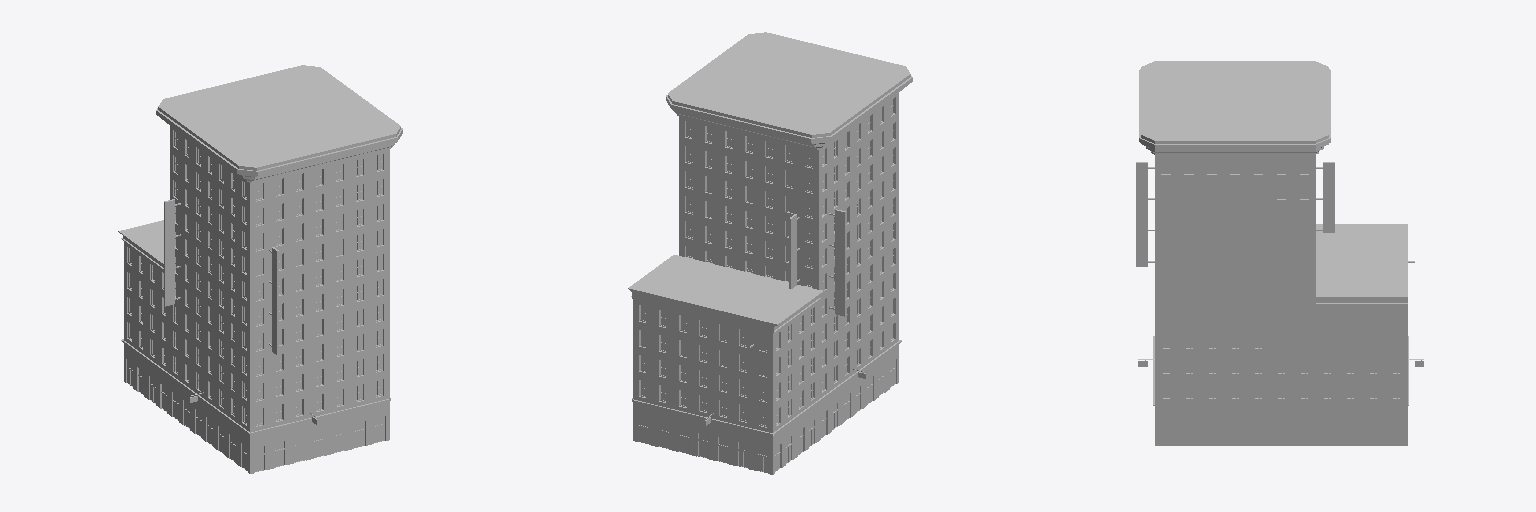
Rendered from Commercial building.obj.
3 views of the same model, side by side, from view 1: azimuth 30°, elevation 25°; view 2: azimuth 150°, elevation 25°; view 3: azimuth 270°, elevation 25° (orthographic).
Parts seen in each view (by area): view 1: fwalls, topcorn, fglass01, stfwall, sin_sides01, winframe01, mullions01, parksign, stglass02, midcorn, stglass01, stcornice; view 2: fwalls, topcorn, midcorn, fglass01, stfwall, sin_sides01, mullions01, winframe01, parksign, stglass02, stglass01, stcornice (+1 smaller); view 3: fwalls, topcorn, fglass01, midcorn, stfwall, mullions01, stglass01, winframe01, parksign, stframes01, stcornice.
Part boxes in pixels (bbox=[...]): fwalls: bbox=[124, 126, 389, 432]; topcorn: bbox=[156, 65, 402, 182]; fglass01: bbox=[131, 133, 381, 424]; stfwall: bbox=[124, 344, 389, 473]; sin_sides01: bbox=[127, 130, 383, 426]; winframe01: bbox=[128, 131, 382, 425]; mullions01: bbox=[129, 132, 381, 424]; parksign: bbox=[164, 199, 278, 355]; stglass02: bbox=[255, 417, 383, 471]; midcorn: bbox=[118, 220, 163, 269]; stglass01: bbox=[128, 360, 247, 470]; stcornice: bbox=[121, 339, 390, 434]; fwalls: bbox=[633, 93, 898, 432]; topcorn: bbox=[666, 32, 912, 149]; midcorn: bbox=[628, 255, 823, 332]; fglass01: bbox=[641, 100, 891, 425]; stfwall: bbox=[633, 344, 898, 474]; sin_sides01: bbox=[639, 97, 895, 427]; mullions01: bbox=[641, 99, 893, 425]; winframe01: bbox=[640, 107, 893, 426]; parksign: bbox=[789, 209, 845, 316]; stglass02: bbox=[639, 418, 767, 472]; stglass01: bbox=[775, 361, 894, 470]; stcornice: bbox=[632, 340, 901, 435]; fwalls: bbox=[1155, 155, 1407, 404]; topcorn: bbox=[1139, 61, 1330, 154]; fglass01: bbox=[1163, 159, 1399, 397]; midcorn: bbox=[1316, 224, 1407, 304]; stfwall: bbox=[1155, 407, 1407, 445]; mullions01: bbox=[1162, 158, 1399, 398]; stglass01: bbox=[1160, 422, 1401, 444]; winframe01: bbox=[1161, 158, 1400, 399]; parksign: bbox=[1136, 162, 1334, 266]; stframes01: bbox=[1159, 421, 1402, 445]; stcornice: bbox=[1153, 336, 1408, 406].
Size of the model in its own units: 1017 by 1791 by 1500.